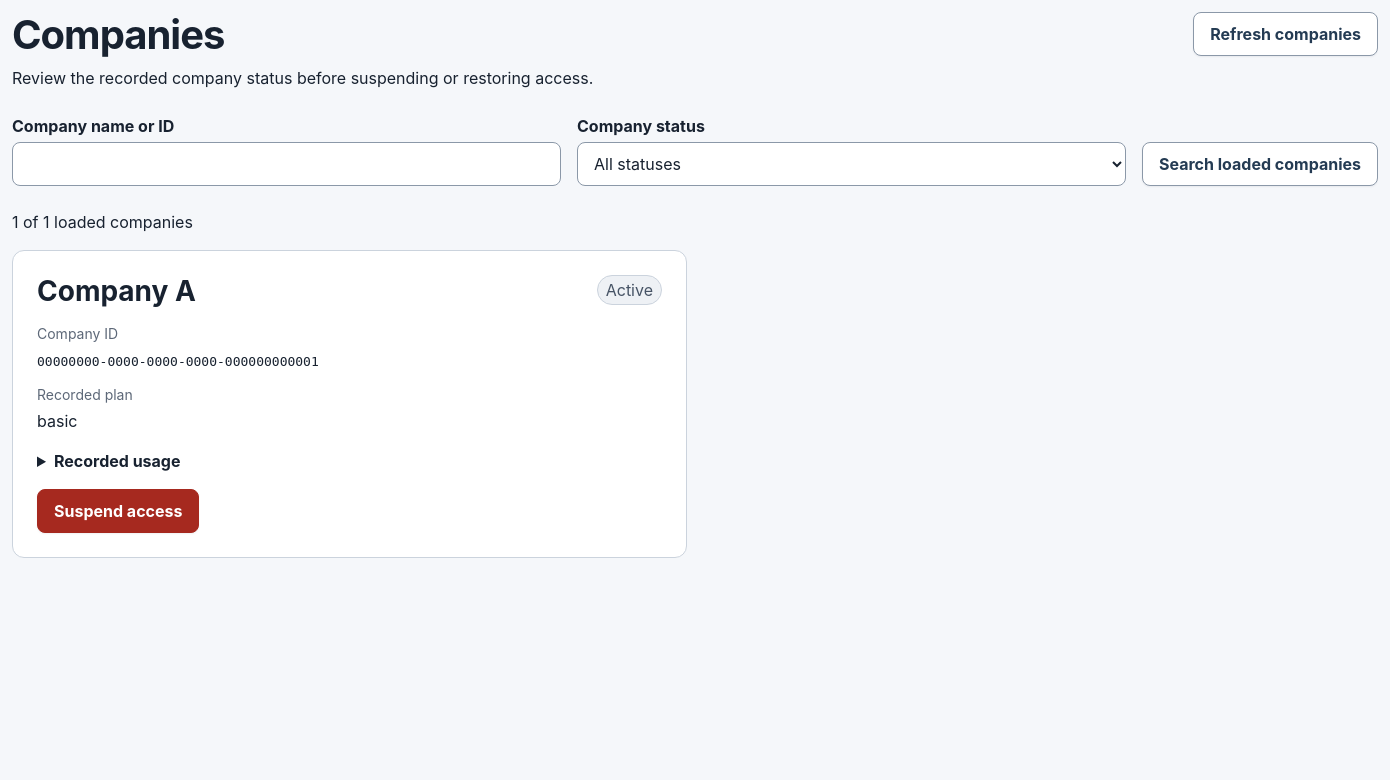
Test: retains failed-refresh records visibly but blocks their actions
Click the button "Refresh companies" at (1286, 34), box [1193,12,1378,56]
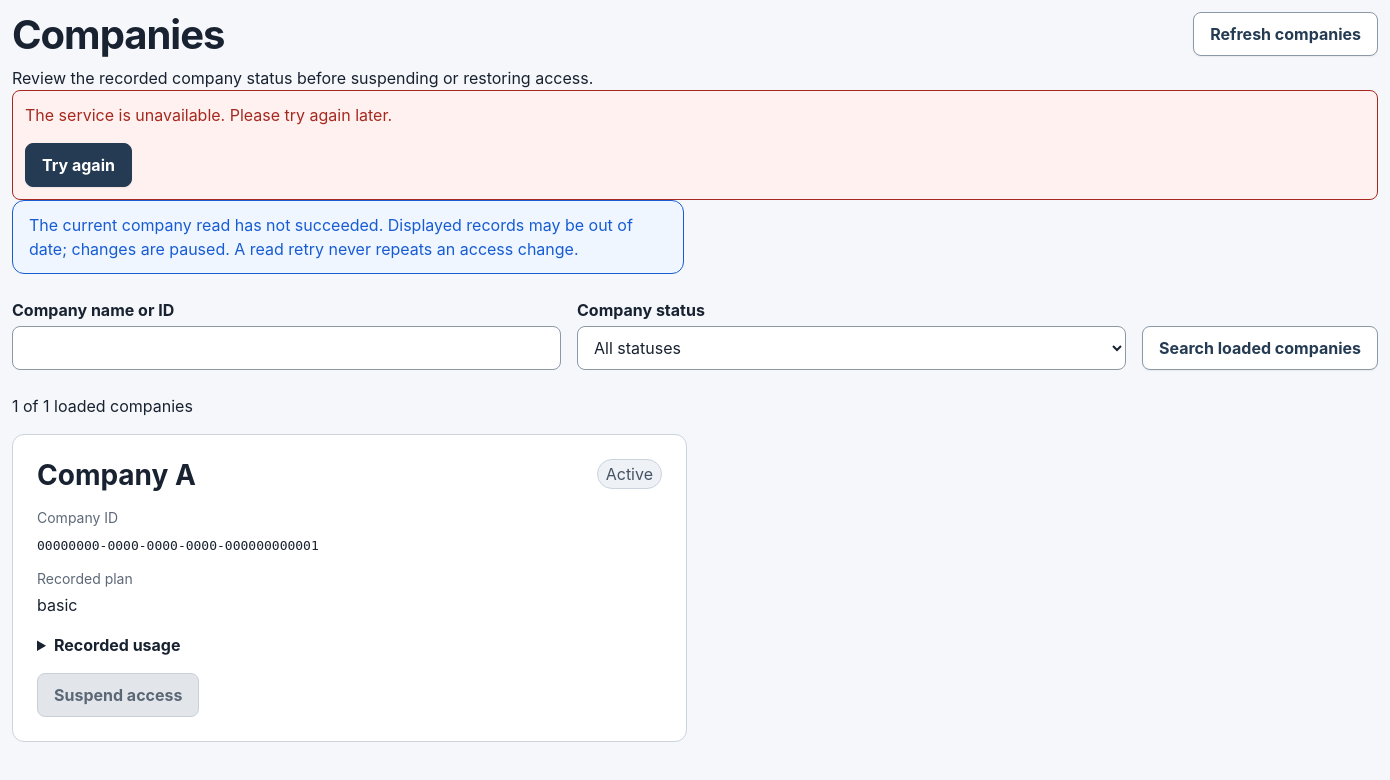
Expected: the heading "Company A" is shown, [37,458,196,492]
Expected: the button "Try again" is shown, [25,143,132,187]
Expected: the button with aria-label "Suspend access for Company A" is disabled, [37,673,199,717]
